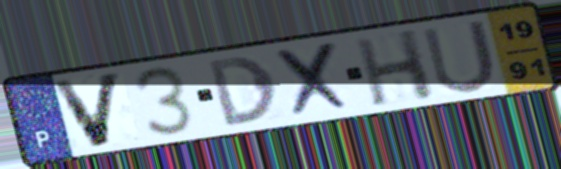3: (132, 64, 197, 139)
D: (204, 53, 281, 130)
H: (351, 26, 439, 109)
U: (418, 16, 500, 96)
V: (46, 69, 126, 150)
X: (271, 39, 357, 121)
